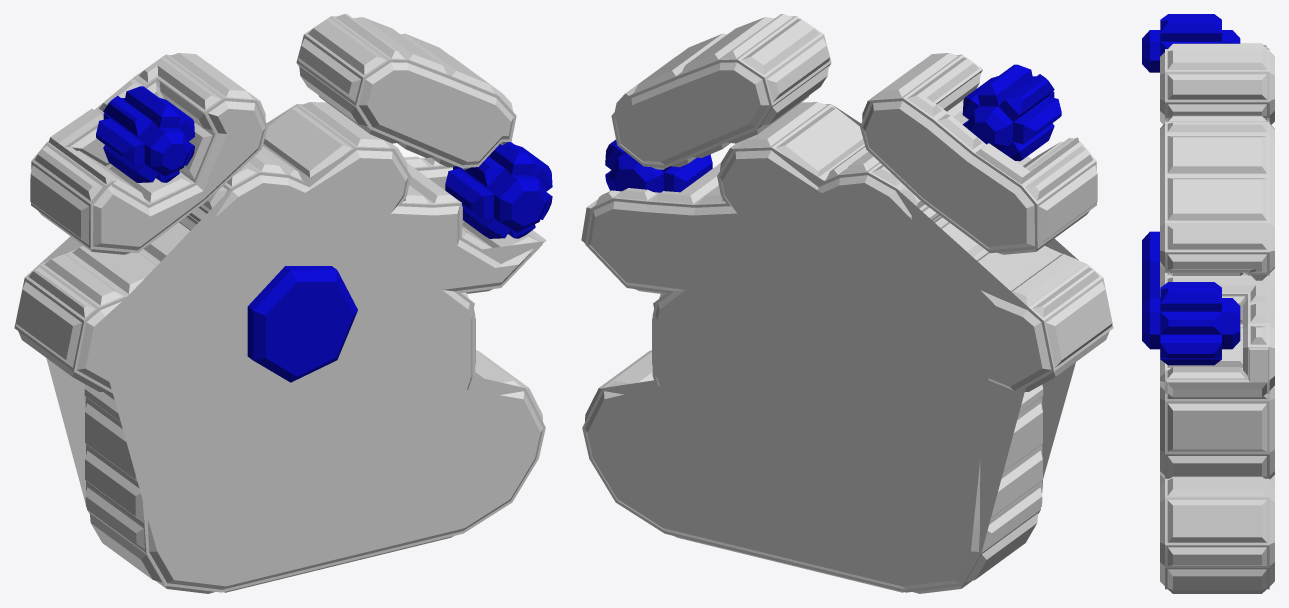
File: Ch_China_爸_01.fbx
3 renders of one model, left to right at view 1: azimuth 30°, elevation 25°; view 2: azimuth 150°, elevation 25°; view 3: azimuth 270°, elevation 25°, orthographic. The views are drawn at different scales.
Visible parts, largest first — view 1: sphere1; view 2: sphere1; view 3: sphere1.
Boxes of the visible parts, bbox=[...] form: sphere1: bbox=[14, 14, 552, 593]; sphere1: bbox=[581, 14, 1113, 593]; sphere1: bbox=[1142, 14, 1274, 593].
Bounding box in the file's own units: 0.9374 × 0.9353 × 0.2541.
